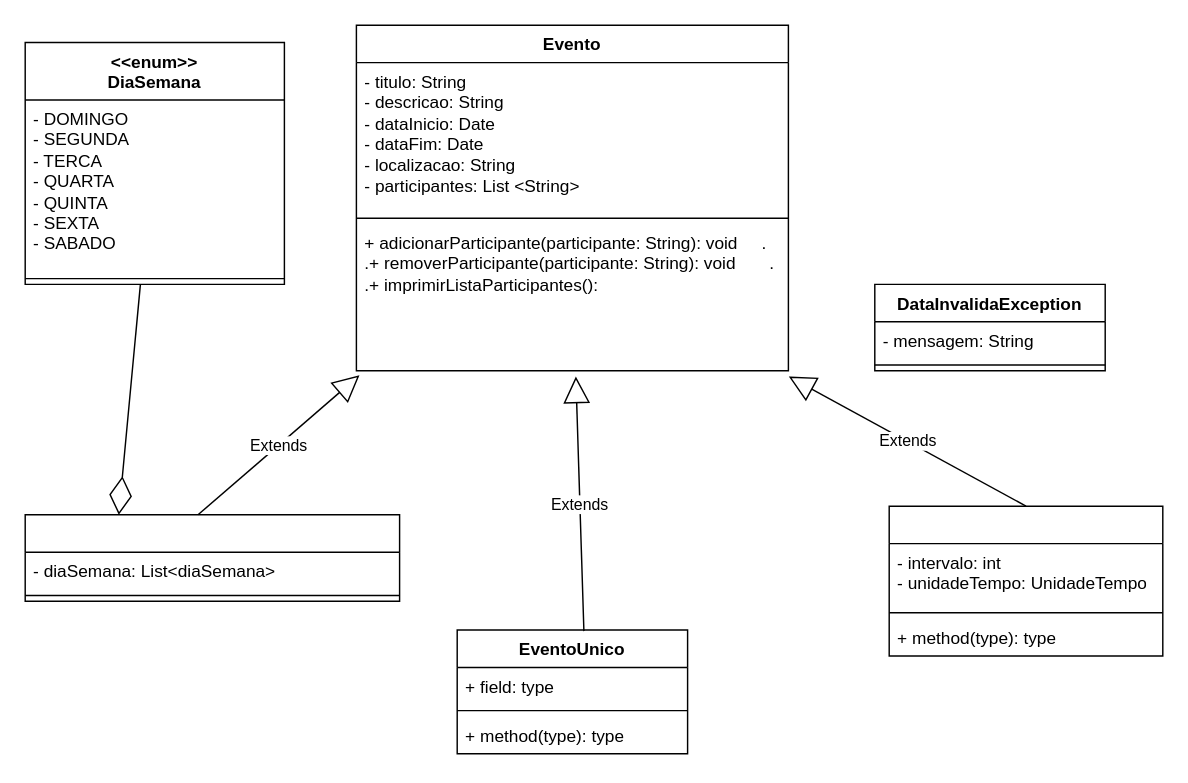
This 1188x783 diagram has some shape labels left out. The box of each missing label's shape, as (x1, y1, x2, y2) in pixels:
EventoPeriodico: (888, 505, 1163, 656)
EventoRecorente: (24, 513, 400, 601)
